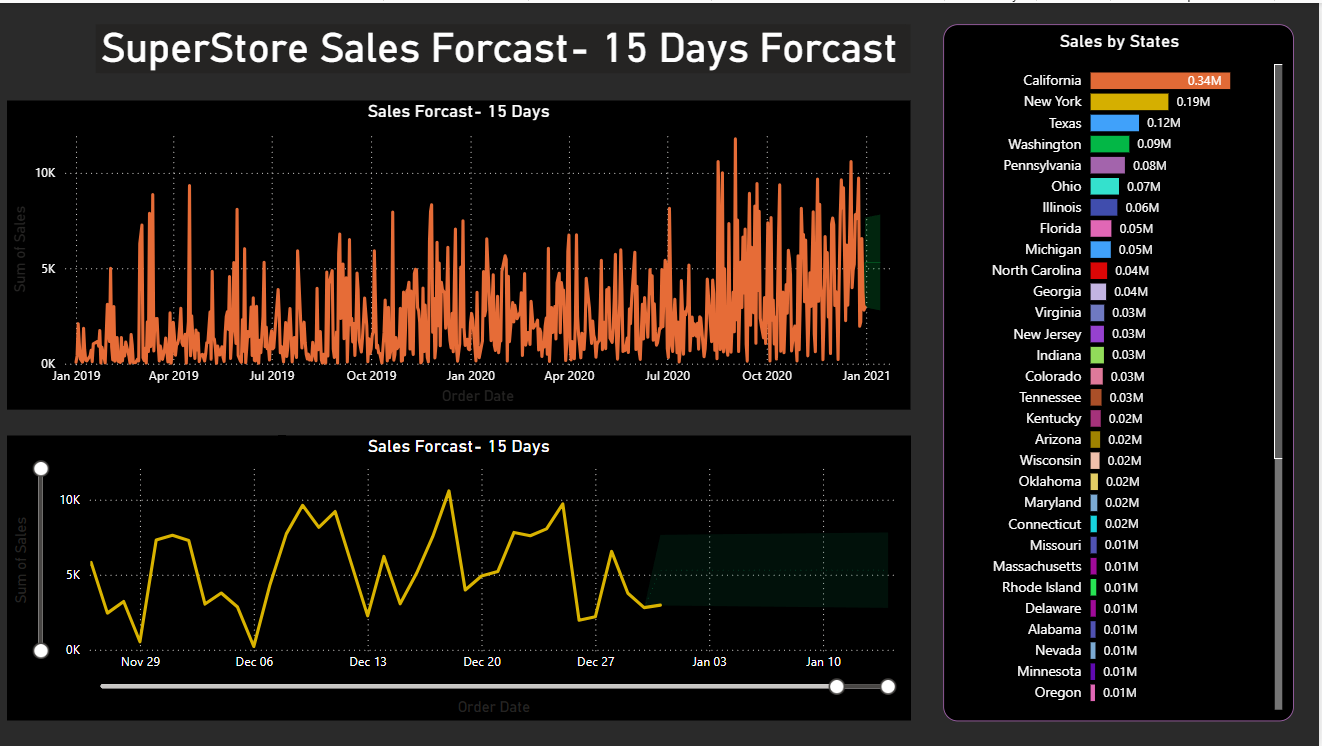

The page's visual inventory and layout, read from the dashboard file:
{"tool":"powerbi","page":{"name":"Page 2","canvas":[1280,720],"ordinal":1},"visuals":[{"type":"lineChart","title":"Sales Forcast- 15 Days","fields":{"Y":["Sum(SuperStore_Sales_Dataset.Sales)"],"Category":["SuperStore_Sales_Dataset.Order Date"]},"box":[14,94,872,298],"z":0},{"type":"lineChart","title":"Sales Forcast- 15 Days","fields":{"Y":["Sum(SuperStore_Sales_Dataset.Sales)"],"Category":["SuperStore_Sales_Dataset.Order Date"]},"box":[14,418,872,274],"z":1000},{"type":"clusteredBarChart","title":" Sales by States","fields":{"Category":["SuperStore_Sales_Dataset.State"],"Y":["Sum(SuperStore_Sales_Dataset.Sales)"]},"box":[917.5,20,338.8,672.5],"z":2000},{"type":"textbox","title":"SuperStore Sales Forcast- 15 Days Forcast","box":[100.1,20.5,786.6,47.1],"z":3000}]}

Visuals, with their boxes in screenshot pixels (x1, y1, x2, y2), scaled from the page's 1280x720 canvas onto the 1322x746 screenshot:
"Sales Forcast- 15 Days" lineChart: {"left": 14, "top": 97, "right": 915, "bottom": 406}
"Sales Forcast- 15 Days" lineChart: {"left": 14, "top": 433, "right": 915, "bottom": 717}
" Sales by States" clusteredBarChart: {"left": 948, "top": 21, "right": 1298, "bottom": 718}
"SuperStore Sales Forcast- 15 Days Forcast" textbox: {"left": 103, "top": 21, "right": 916, "bottom": 70}
